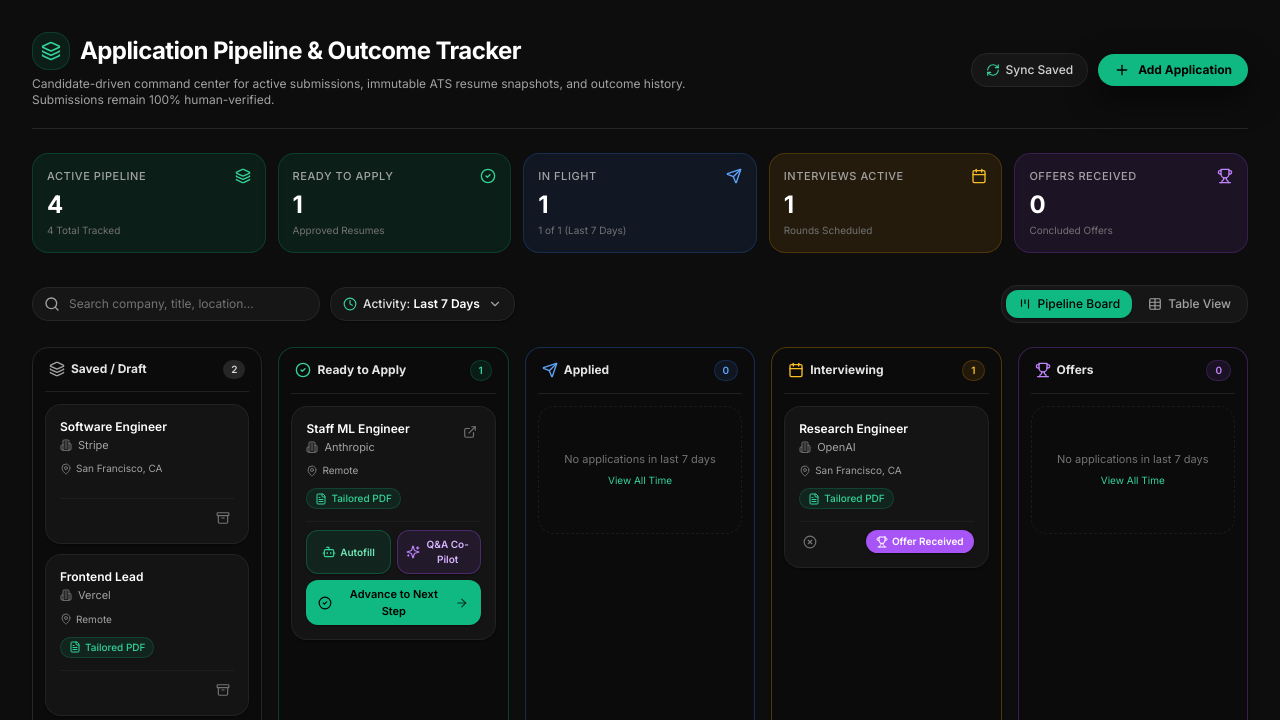
Test: ApplicationsPage - Activity Date Filter Scoping & Behavior › filters historical stages when 'Today' is selected while keeping Saved & Ready unaffected
Expected: the text "OpenAI" is shown, [817,438,856,455]
Open date filter dropdown
Click the button with test id "activity-date-filter-button".
click(422, 304)  # box [330,286,515,320]
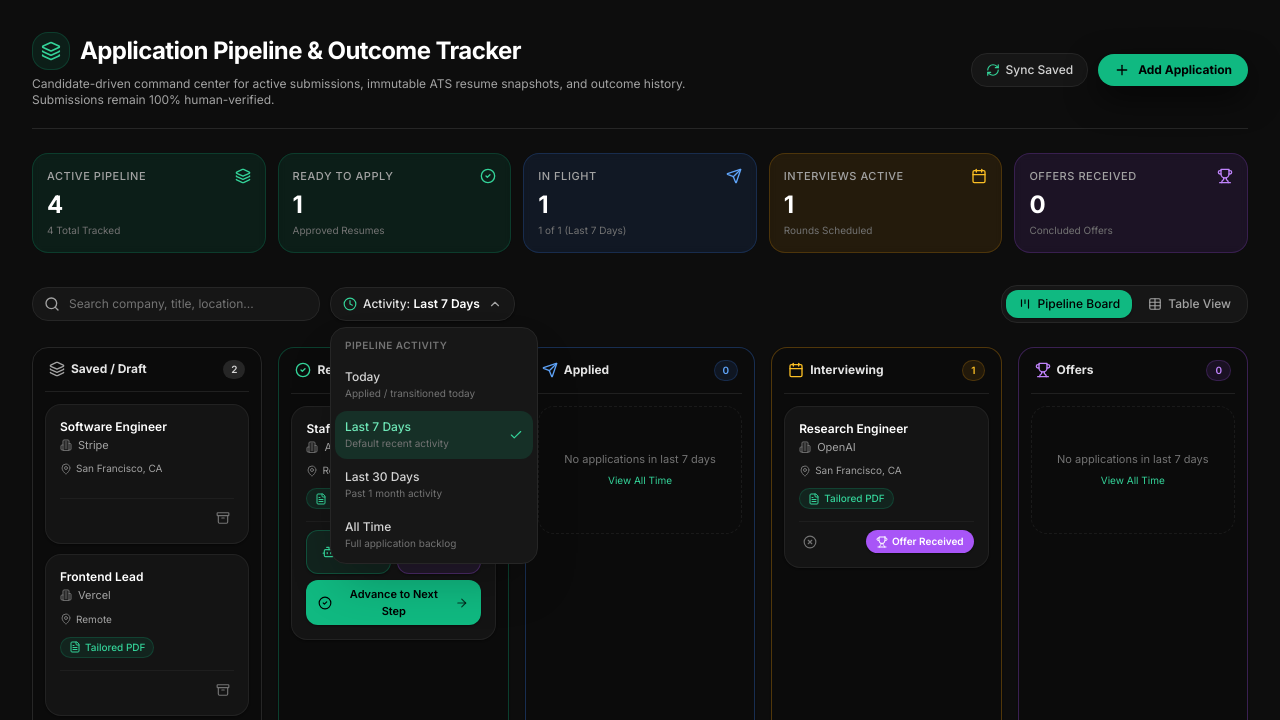
Click 'Today'
Click the button with test id "activity-option-today".
click(434, 384)  # box [335,360,533,408]
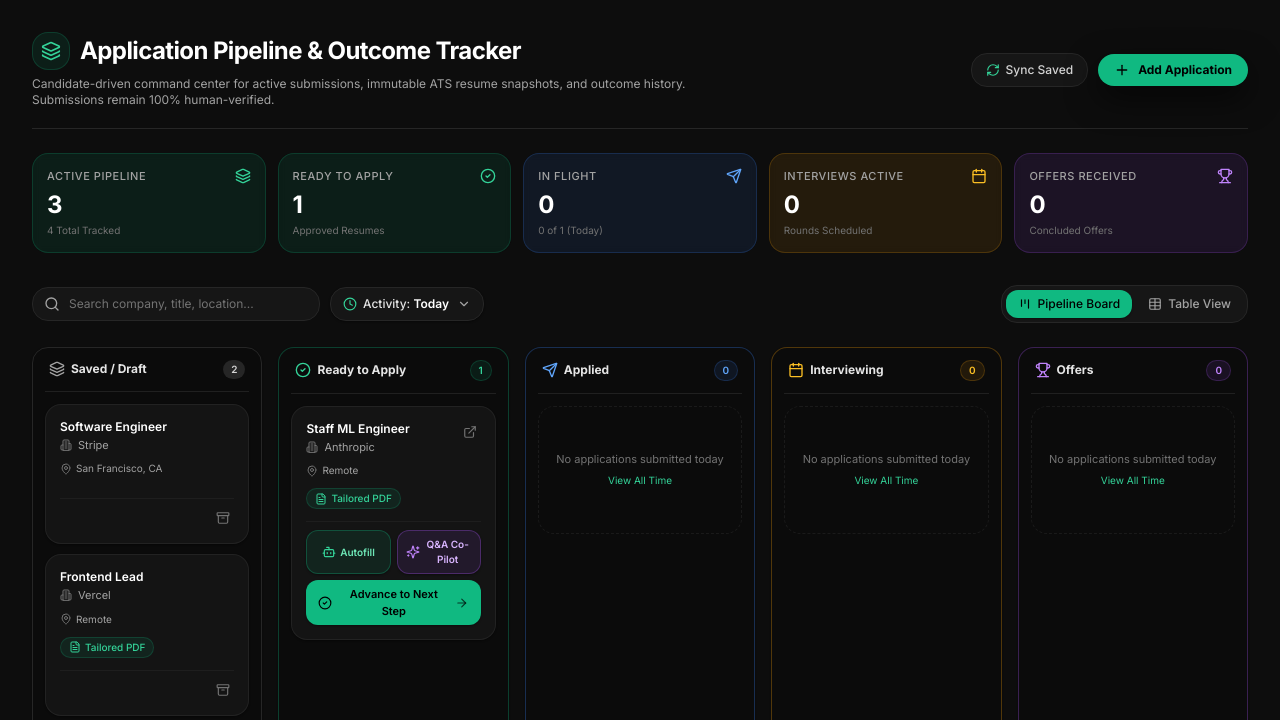
Expected: the text "Stripe" is shown, [78,436,109,453]
Expected: the text "OpenAI" is gone
